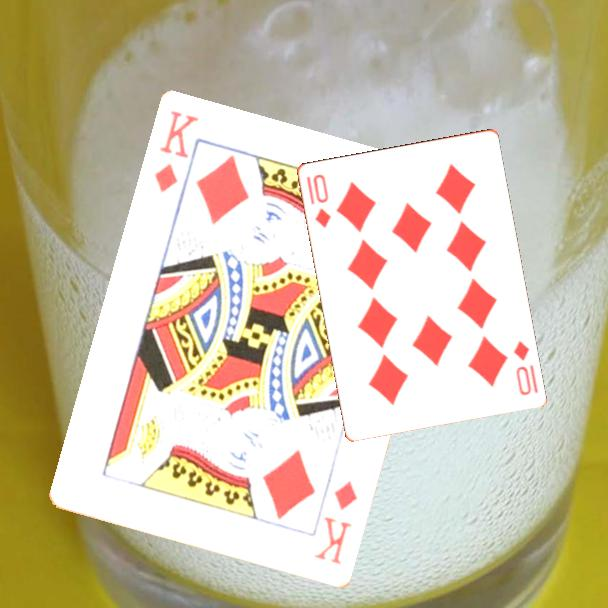d10: (510, 337, 540, 398), (309, 170, 333, 231)
d13: (151, 107, 202, 197), (312, 478, 361, 569)
